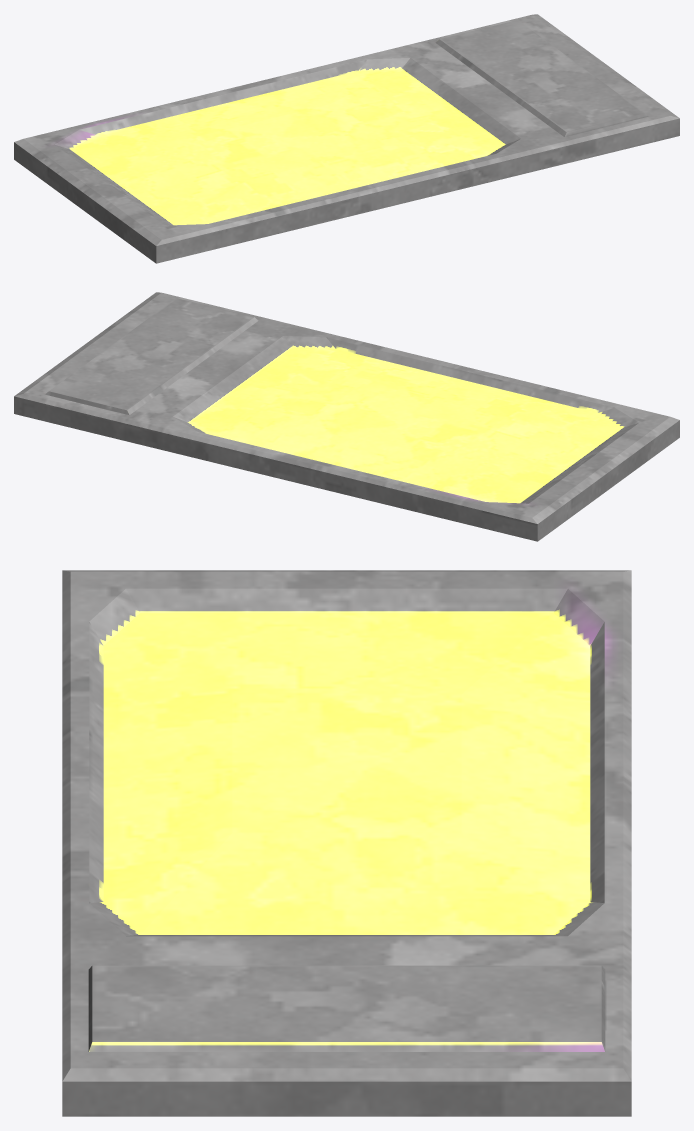
File: YellowKeycard.fbx
The picture shows the model from 3 angles, top to bottom: view 1: azimuth 30°, elevation 25°; view 2: azimuth 150°, elevation 25°; view 3: azimuth 270°, elevation 25°; orthographic projection. The views are drawn at different scales.
Visible parts, largest first — view 1: KeycardYellow; view 2: KeycardYellow; view 3: KeycardYellow.
Part boxes in pixels (box(x1,y1,x2,y2)): KeycardYellow: box(14, 14, 679, 263); KeycardYellow: box(14, 292, 679, 541); KeycardYellow: box(62, 570, 631, 1116).
Bounding box in the file's own units: 77.39 × 3.37 × 36.41.
